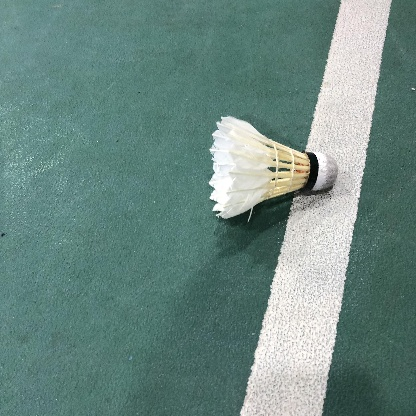ball_single: (209, 116, 338, 219)
